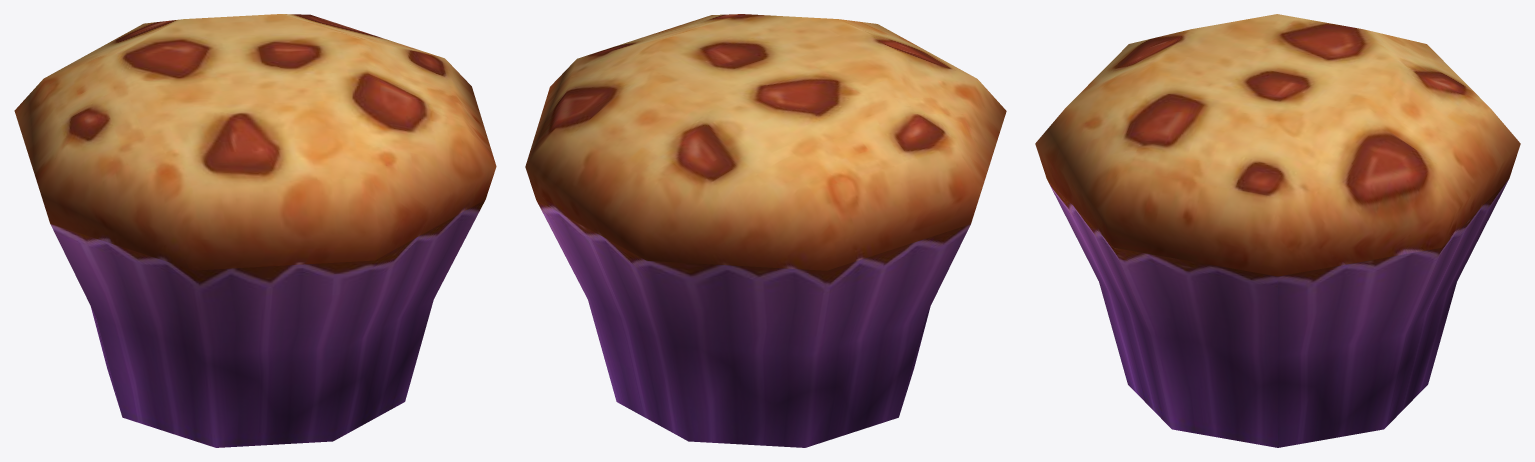
The picture shows the model from 3 angles, left to right: view 1: azimuth 30°, elevation 25°; view 2: azimuth 150°, elevation 25°; view 3: azimuth 270°, elevation 25°; orthographic projection. The views are drawn at different scales.
Visible parts, largest first — view 1: SE_Muffin_01; view 2: SE_Muffin_01; view 3: SE_Muffin_01.
Boxes of the visible parts, x1=… form: SE_Muffin_01: x1=14, y1=14, x2=496, y2=447; SE_Muffin_01: x1=525, y1=14, x2=1006, y2=447; SE_Muffin_01: x1=1035, y1=14, x2=1520, y2=447.
Bounding box in the file's own units: 1.3 × 0.9313 × 1.3.
1 material, 1 textured.
